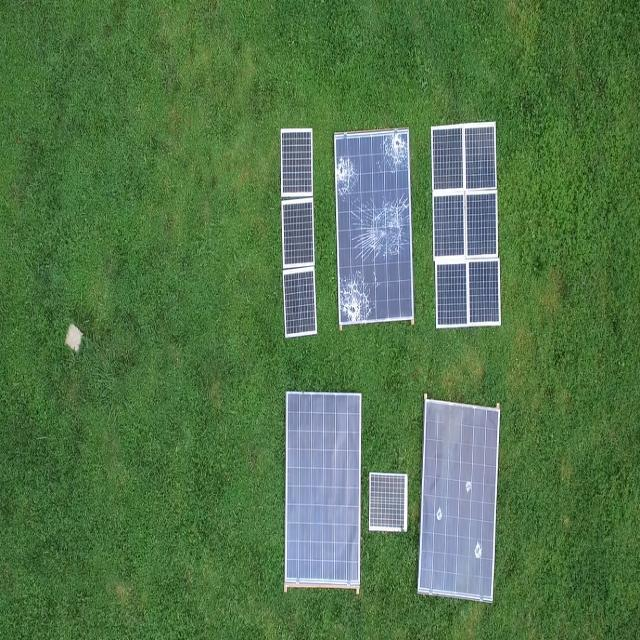faulty: (334, 129, 412, 322), (424, 403, 498, 597)
no faulty: (286, 394, 359, 586), (436, 127, 498, 326), (283, 270, 316, 336), (282, 128, 313, 194), (283, 200, 314, 266), (371, 473, 405, 530)
